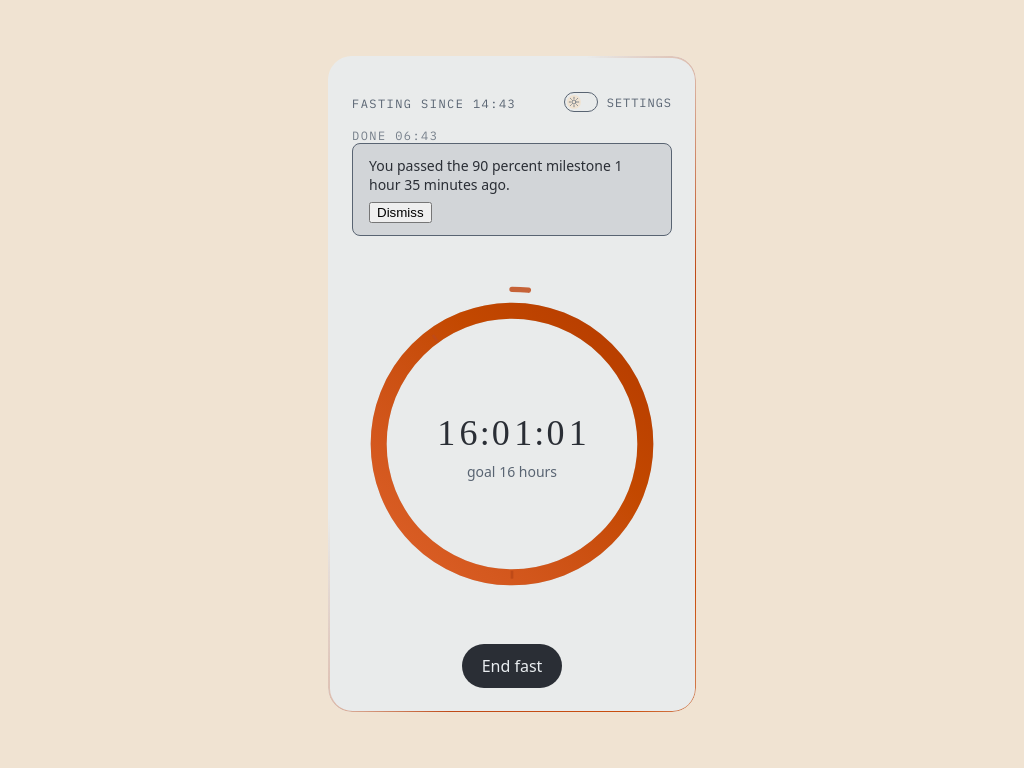
Test: <Timer> goal swell (spec §5.6) › shows confetti once the goal is crossed, keeps it falling through overtime, and clears it when the fast ends (feature: goal confetti)
Step 1. Click the button "End fast" → (512, 666), box x1=462 y1=644 x2=562 y2=688
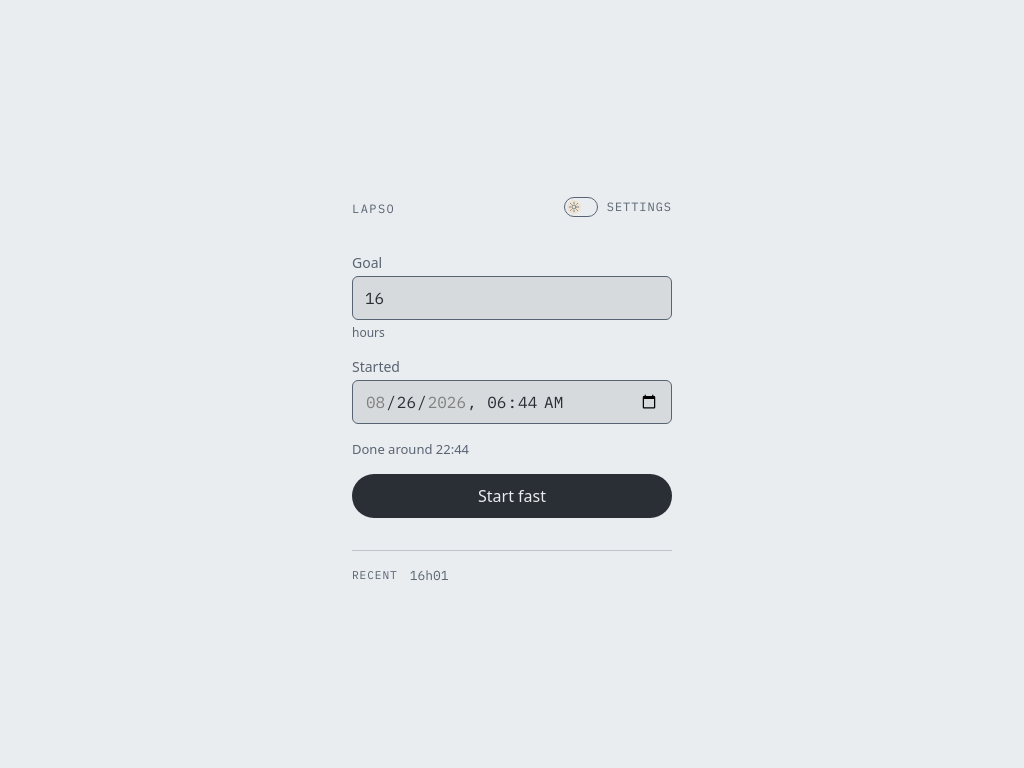
Check: the element with class "confetti" is gone
